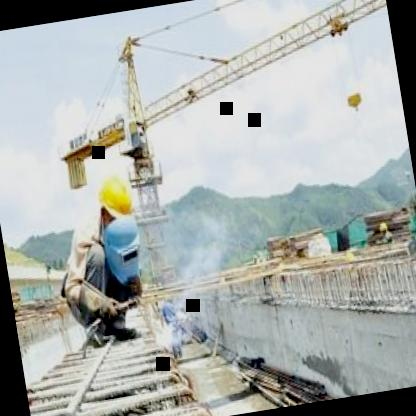helmet: (91, 168, 139, 230)
